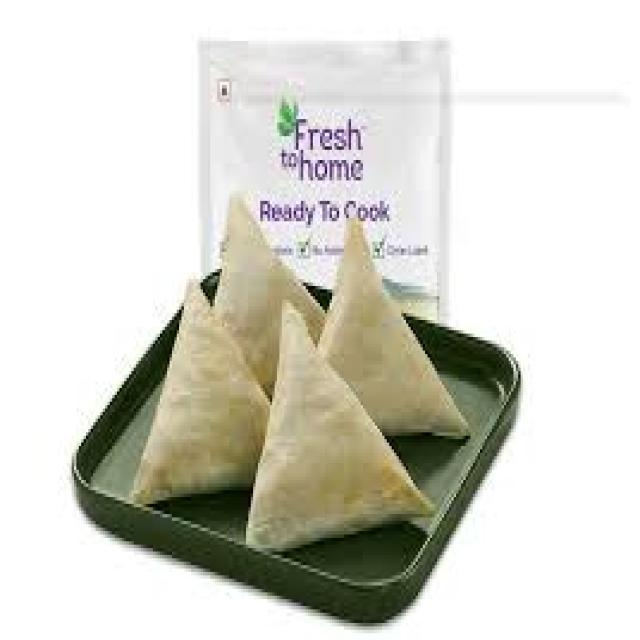SAMOSA: (246, 303, 430, 548), (320, 221, 466, 432), (129, 283, 267, 500), (134, 283, 267, 500), (215, 194, 322, 388)
